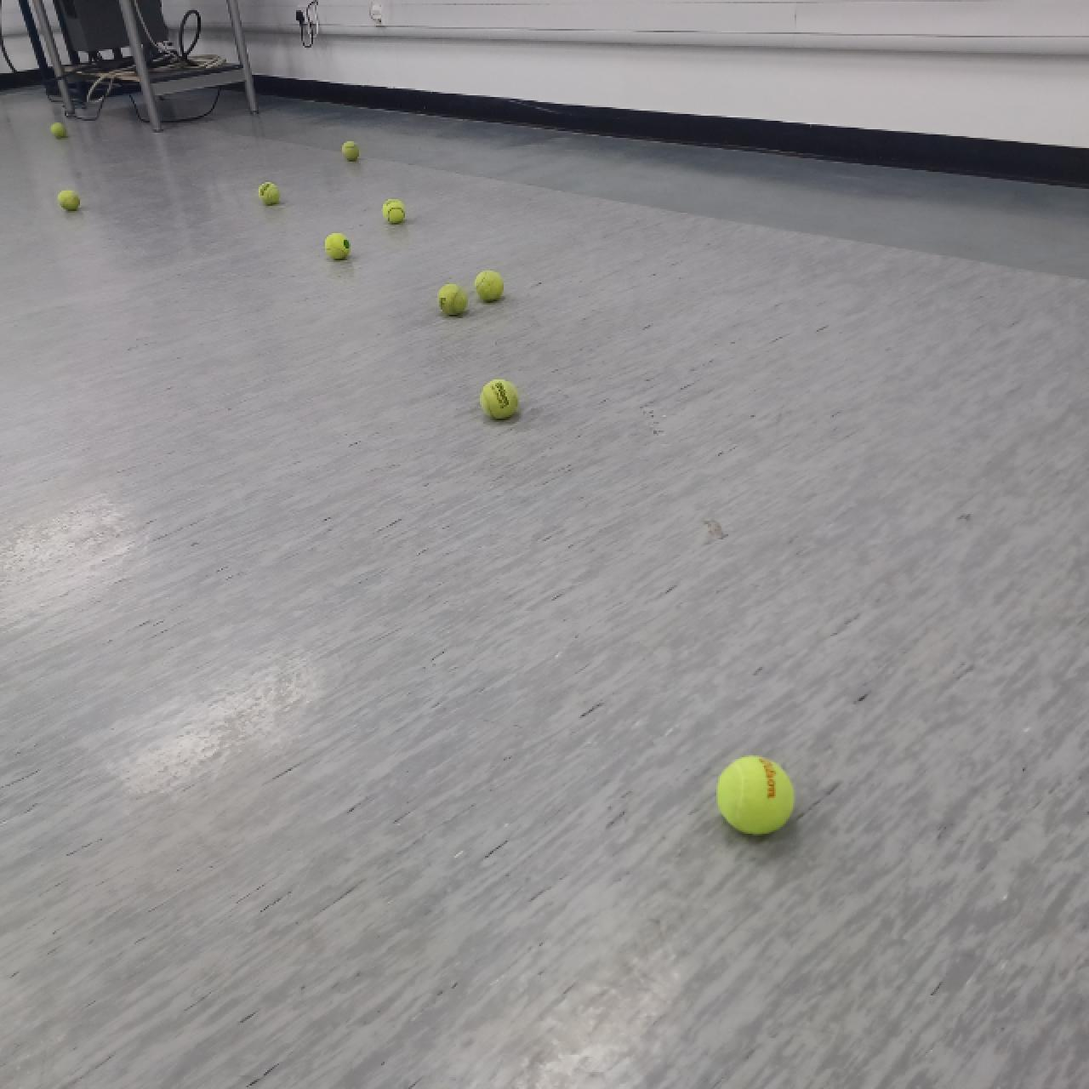tennis-ball: (717, 755, 797, 837), (479, 378, 522, 421), (436, 283, 469, 318), (474, 270, 505, 303), (325, 232, 351, 261), (382, 198, 406, 225), (258, 181, 281, 206), (57, 189, 81, 212), (341, 140, 360, 162), (50, 121, 68, 140)
